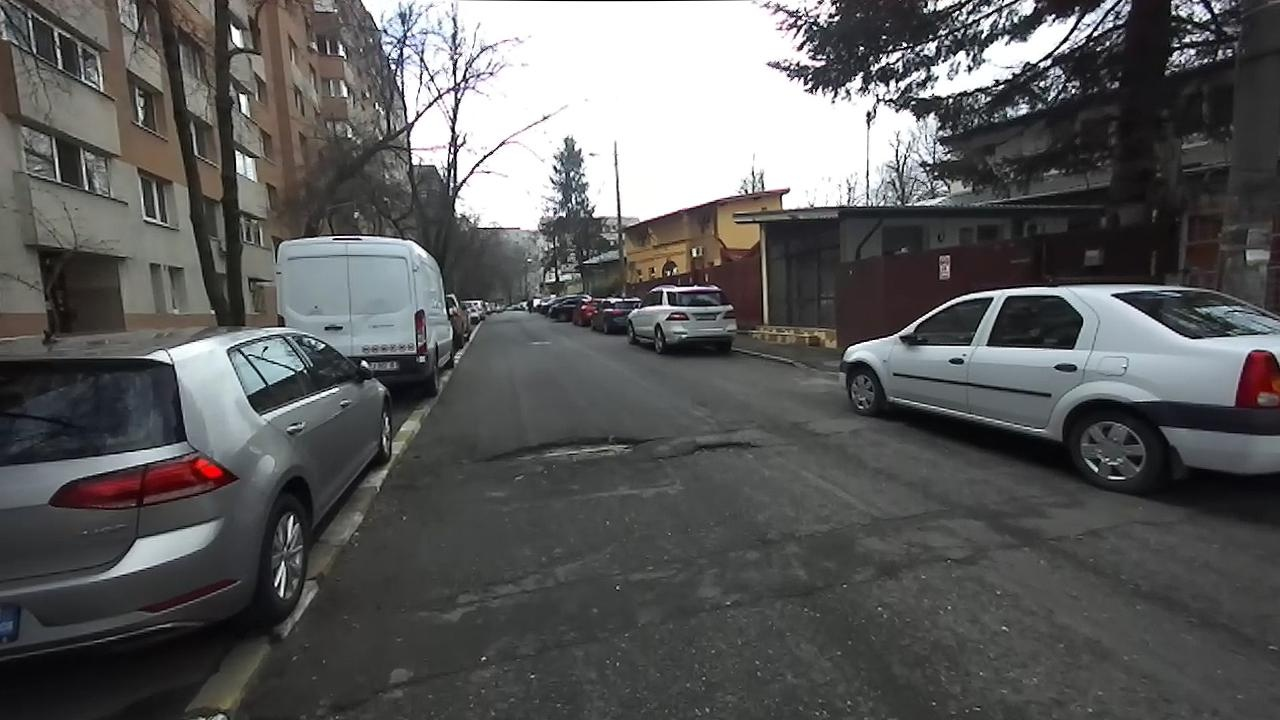pothole: (479, 430, 653, 469), (679, 439, 764, 461)
